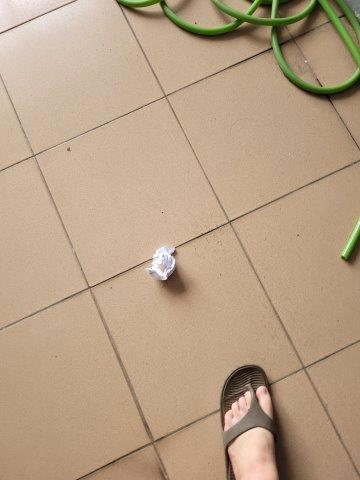kertas: (145, 246, 180, 286)
